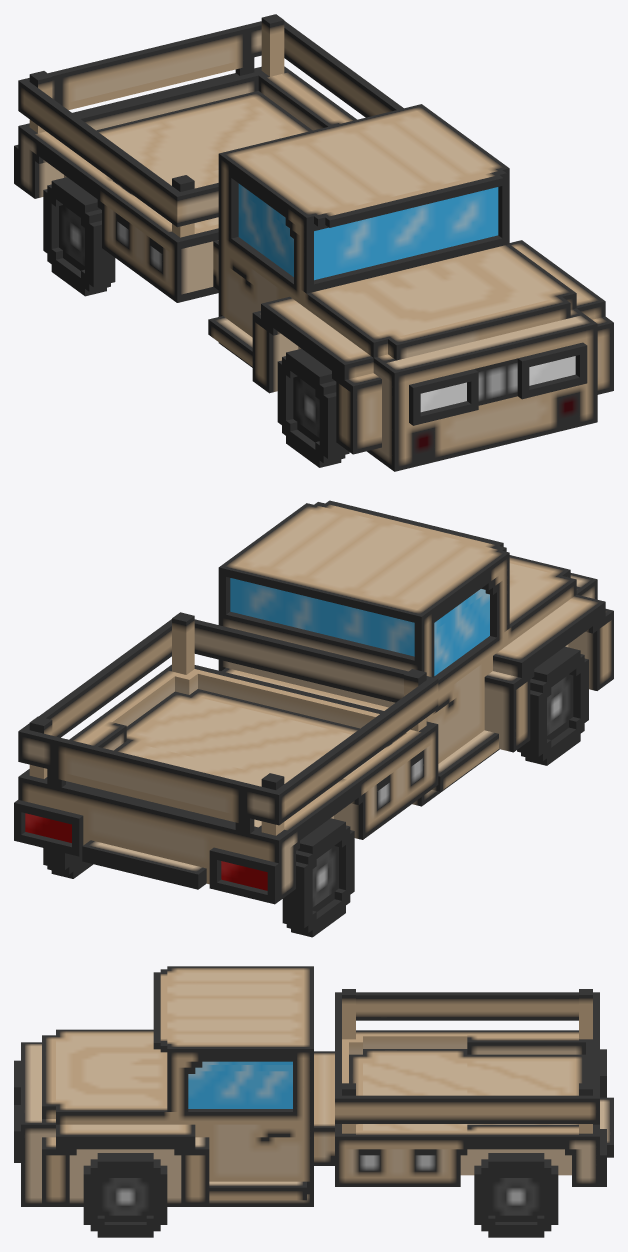
File: Picap_0.fbx
3 renders of one model, top to bottom at view 1: azimuth 30°, elevation 25°; view 2: azimuth 150°, elevation 25°; view 3: azimuth 270°, elevation 25°, orthographic. The views are drawn at different scales.
Visible parts, largest first — view 1: Matrix_10; view 2: Matrix_10; view 3: Matrix_10.
Part boxes in pixels (box(x1,y1,x2,y2)): Matrix_10: box(14, 14, 613, 471); Matrix_10: box(14, 500, 613, 937); Matrix_10: box(14, 966, 613, 1237).
Bounding box in the file's own units: 36 × 28 × 86.
